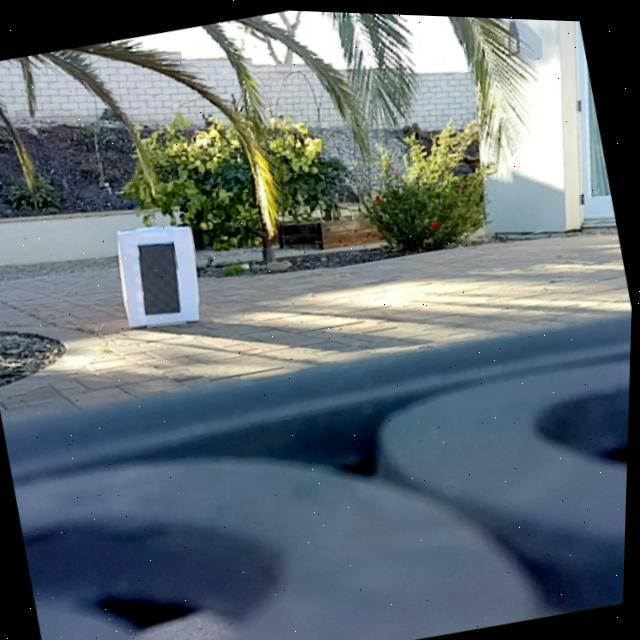led: (134, 237, 188, 317)
